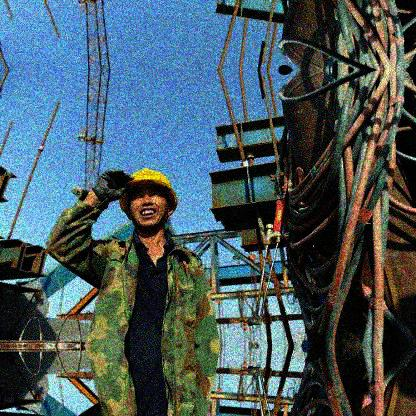helmet: (117, 168, 181, 235)
